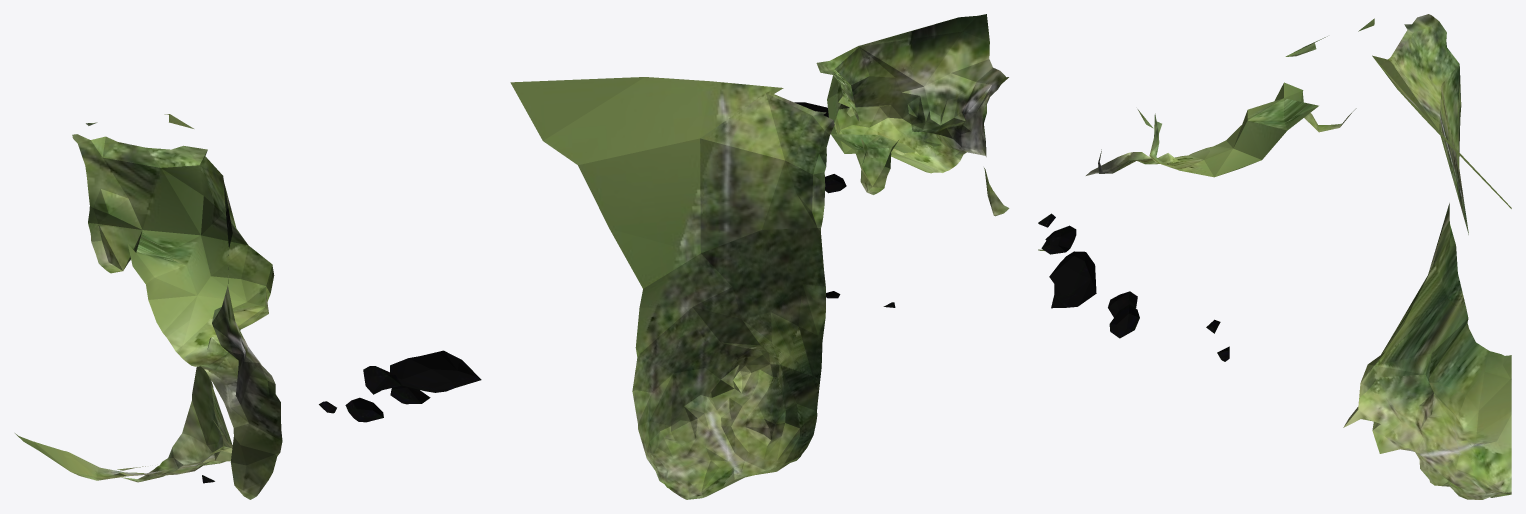
The picture shows the model from 3 angles, left to right: view 1: azimuth 30°, elevation 25°; view 2: azimuth 150°, elevation 25°; view 3: azimuth 270°, elevation 25°; orthographic projection. The views are drawn at different scales.
Size of the model in its own units: 20.43 by 25.48 by 26.11.
3 materials, 3 textured.
